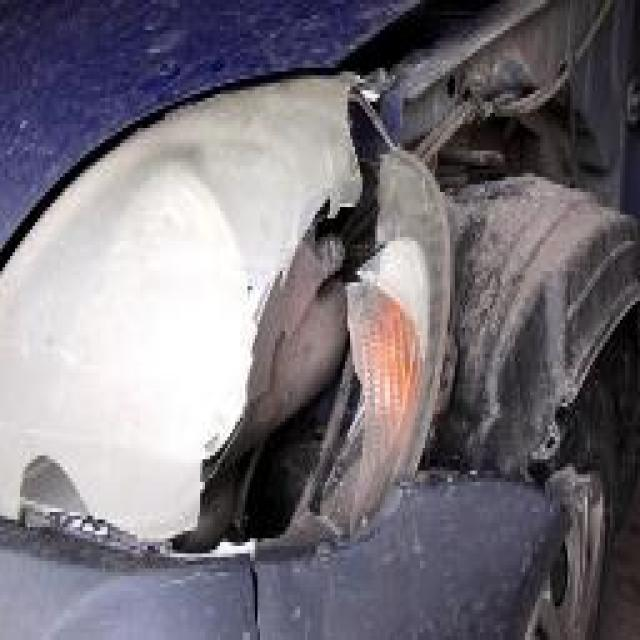Light: (12, 143, 420, 538)
